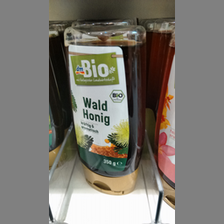honey: (63, 25, 150, 197)
